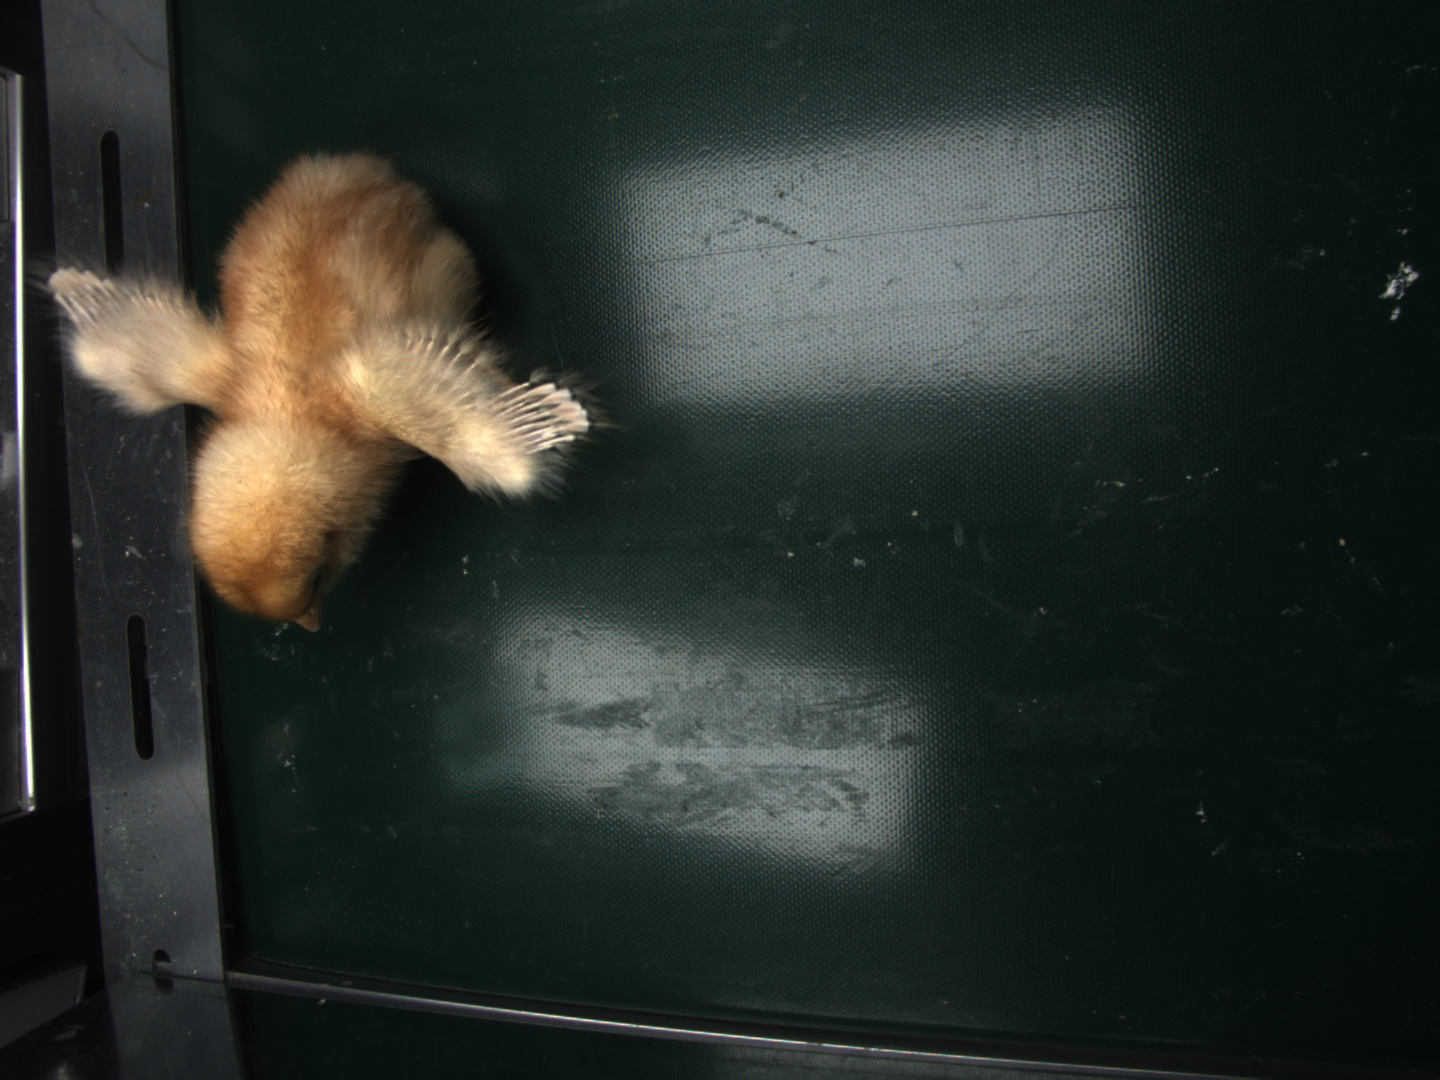female: (501, 382, 588, 442)
